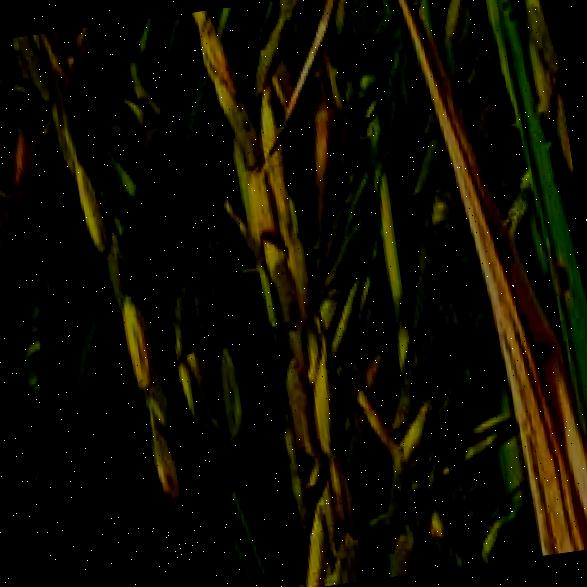Bacteria_Leaf_Blight: (375, 0, 587, 564)
